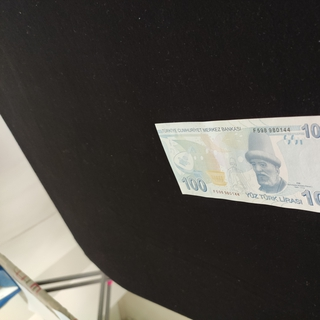100TLBack: (154, 114, 320, 218)
